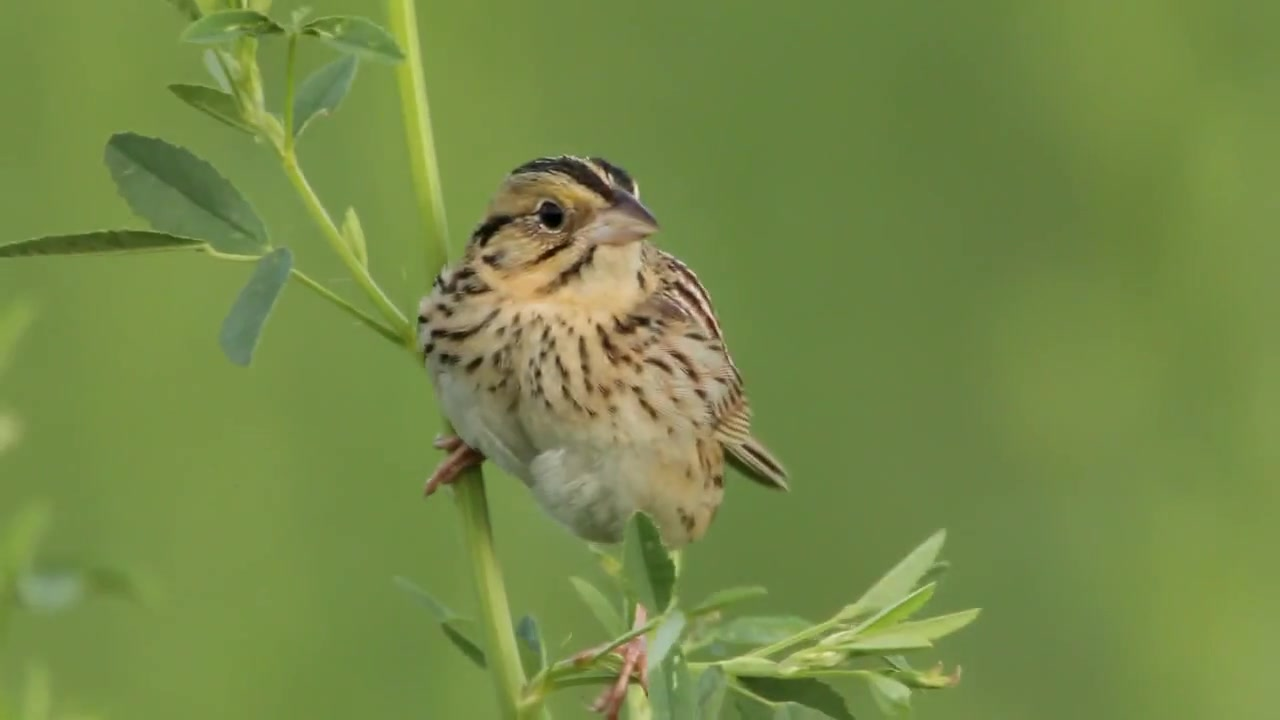bird: (417, 156, 792, 718)
